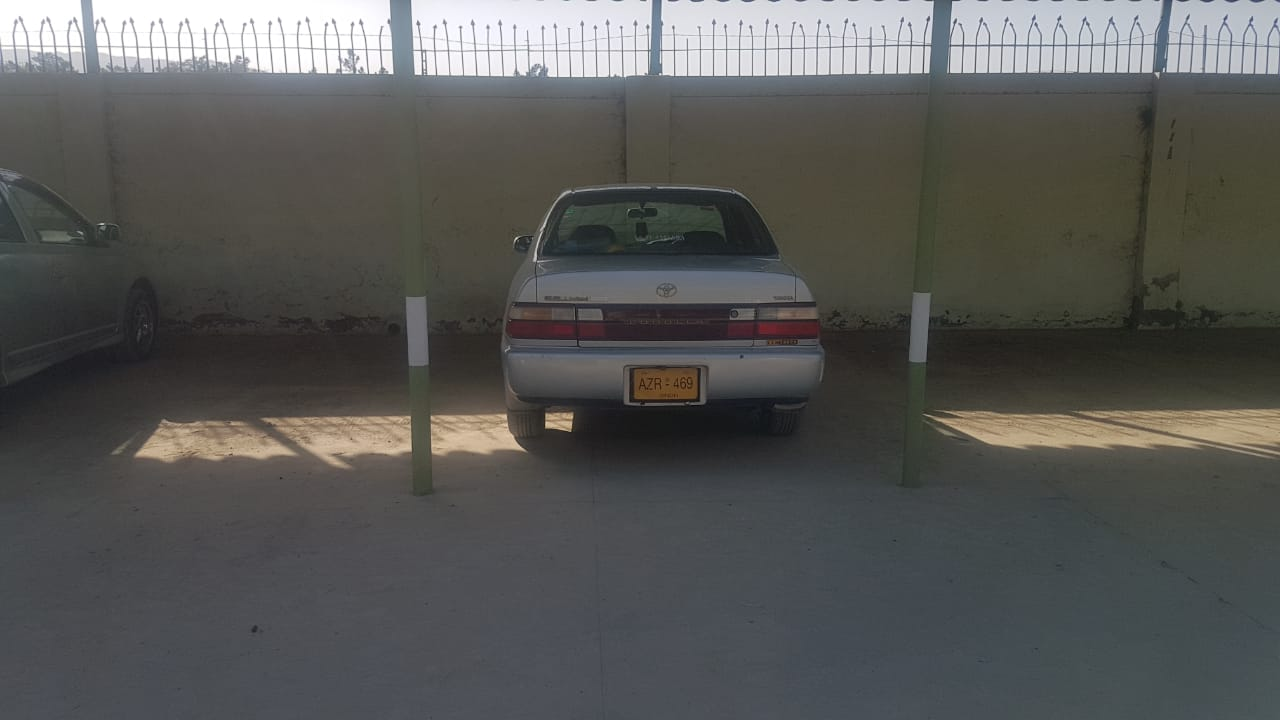license plate: (631, 368, 699, 400)
